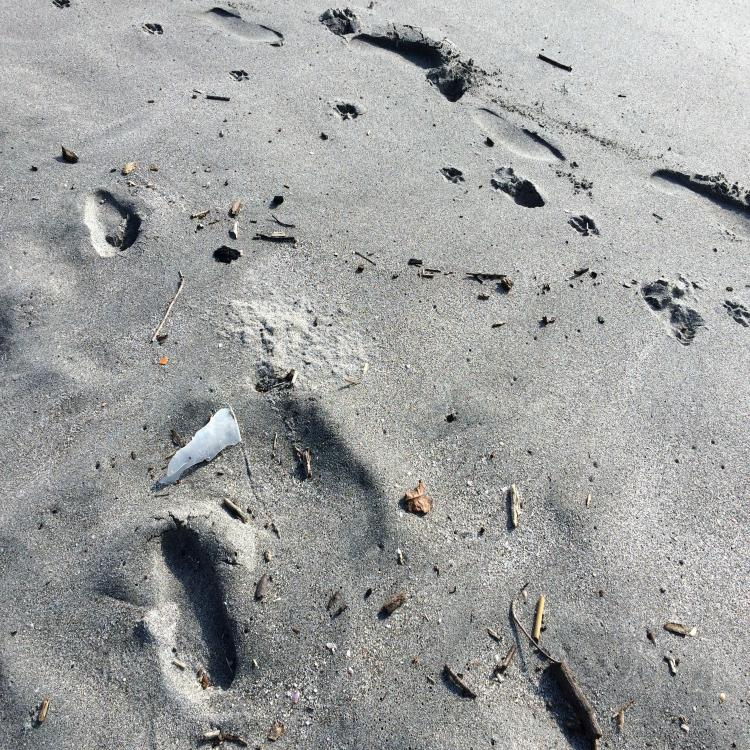Other plastic wrapper: (160, 406, 241, 484), (159, 356, 168, 364)
